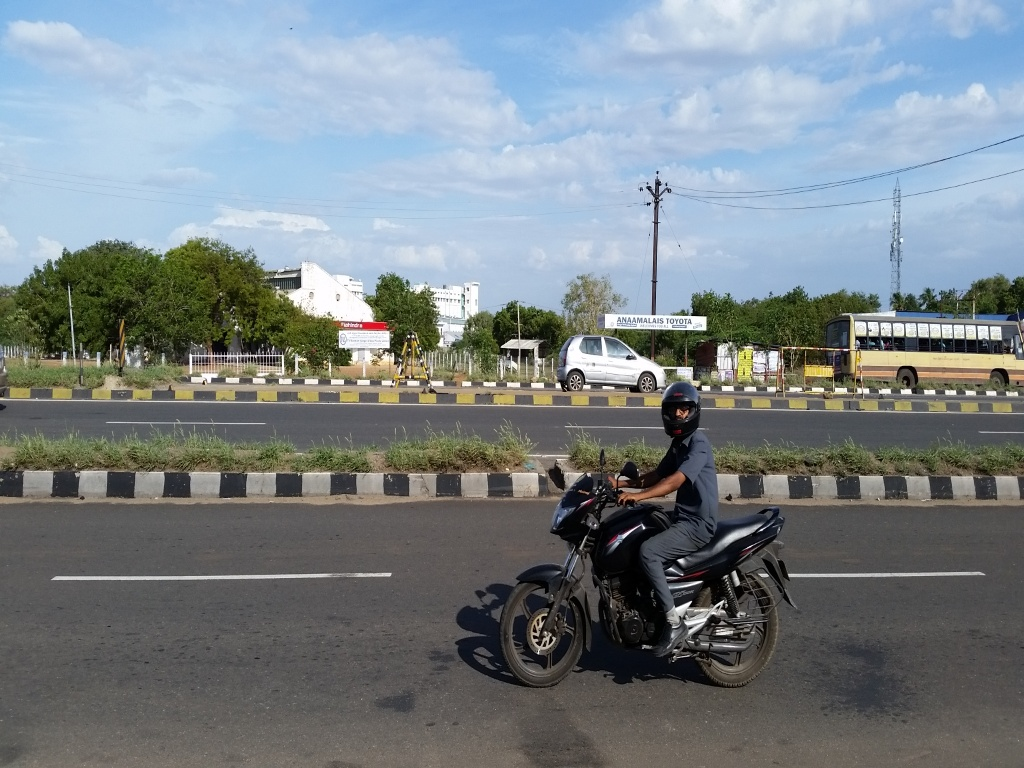biker: (484, 360, 811, 699)
helmet: (652, 378, 716, 455)
